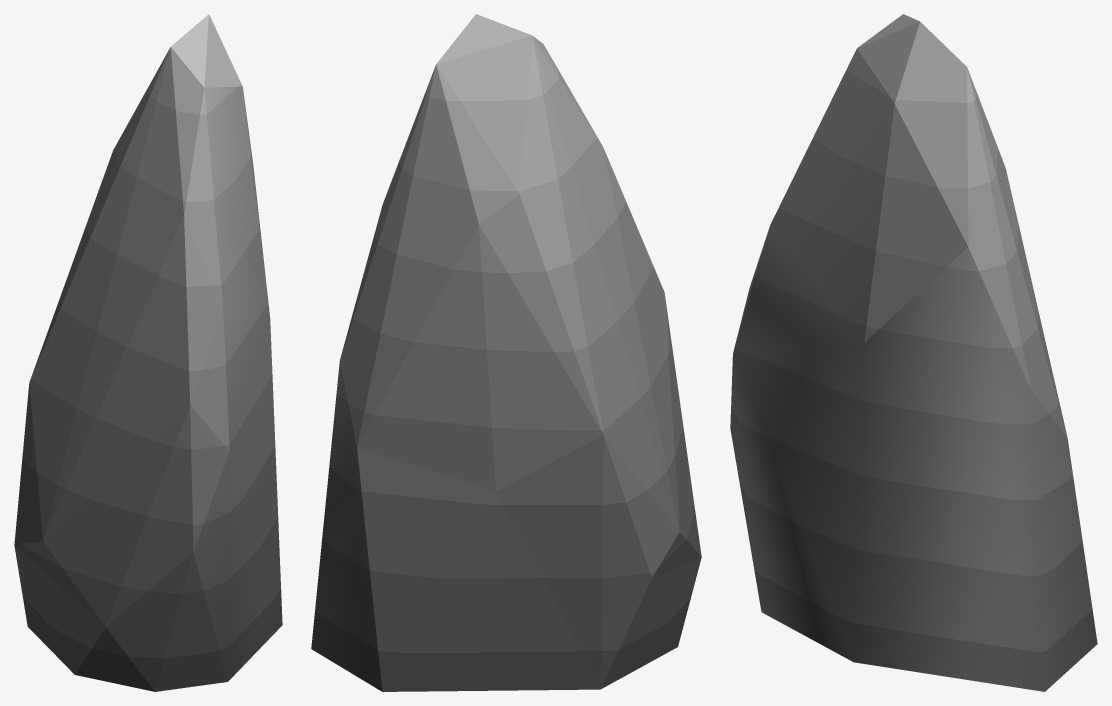
The model's file is Prefab_Rock_B.glb.
3 views of the same model, side by side, from view 1: azimuth 30°, elevation 25°; view 2: azimuth 150°, elevation 25°; view 3: azimuth 270°, elevation 25° (orthographic). The views are drawn at different scales.
Visible parts, largest first — view 1: Rock_F; view 2: Rock_F; view 3: Rock_F.
Boxes of the visible parts, box(x1,y1,x2,y2) form: Rock_F: box(14, 14, 282, 691); Rock_F: box(311, 14, 701, 691); Rock_F: box(730, 14, 1097, 691).
Size of the model in its own units: 0.6455 by 1.3 by 0.6998.
Materials: 1 (1 with a texture image).
